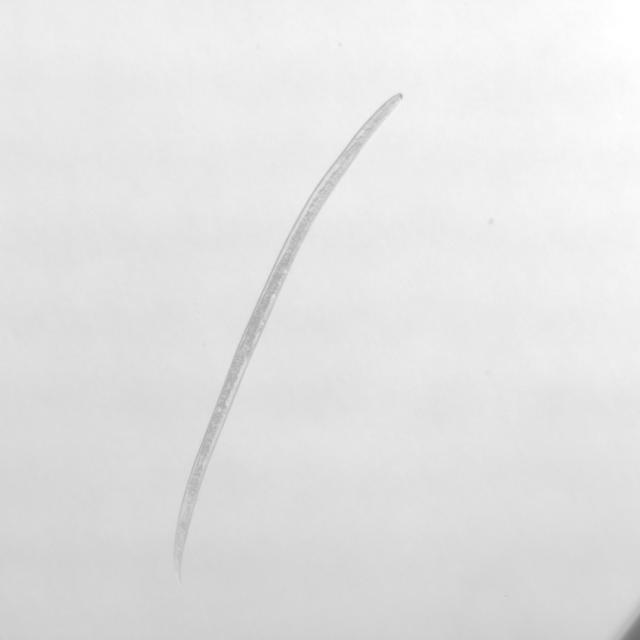Radopholus: (169, 79, 416, 595)
